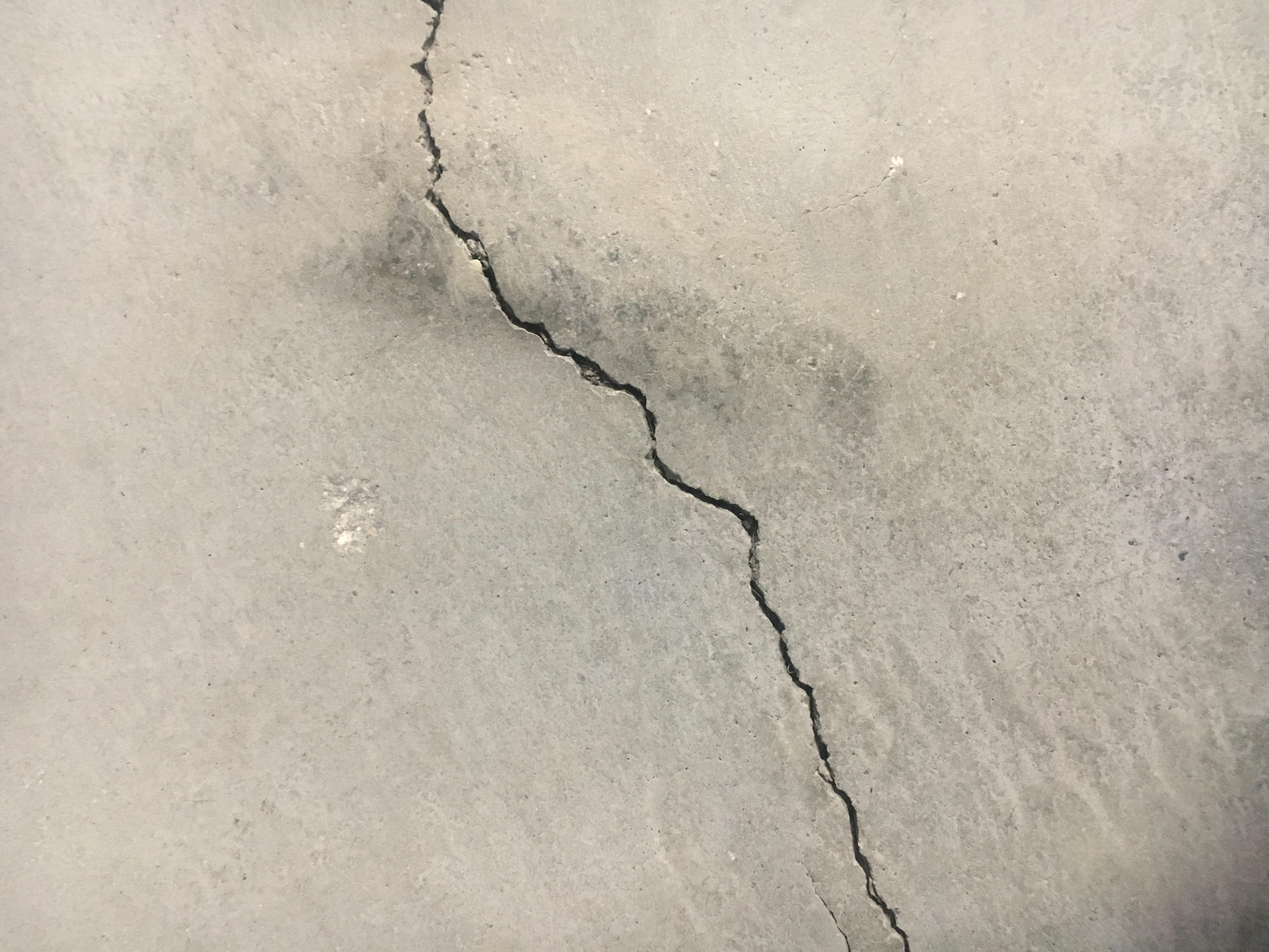Vertical Crack: (408, 2, 912, 948)
